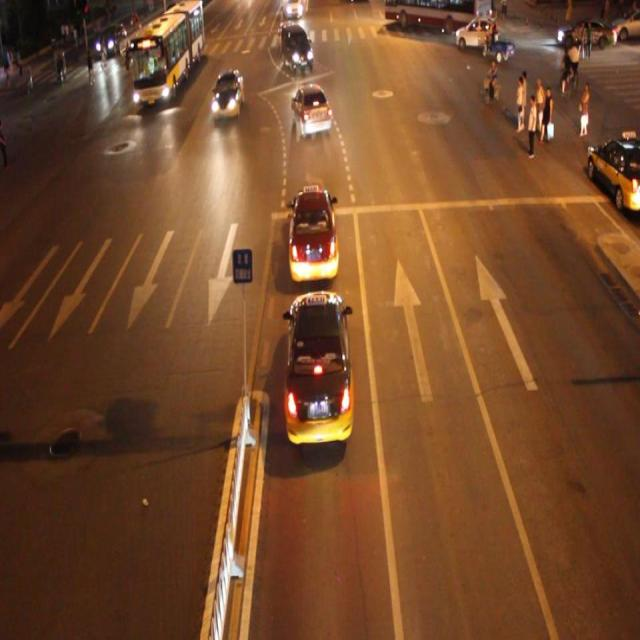car: (286, 289, 354, 443), (287, 188, 339, 284), (290, 83, 330, 136), (210, 68, 243, 118), (280, 28, 314, 75)
van: (131, 1, 204, 107)
